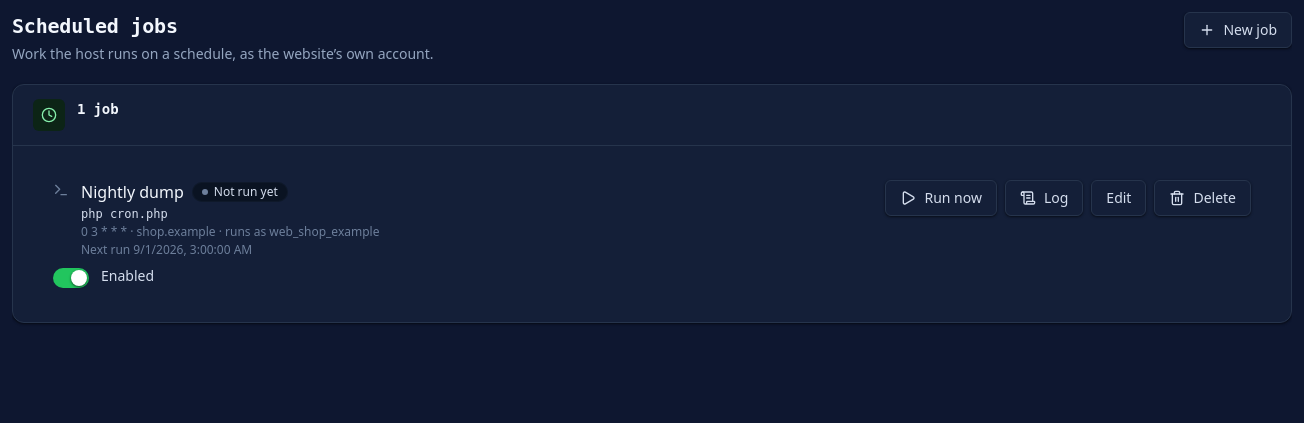
CronPage › runs a job and shows what it printed
Click the button "Run now". click: (941, 198)
box: [885,180,997,216]
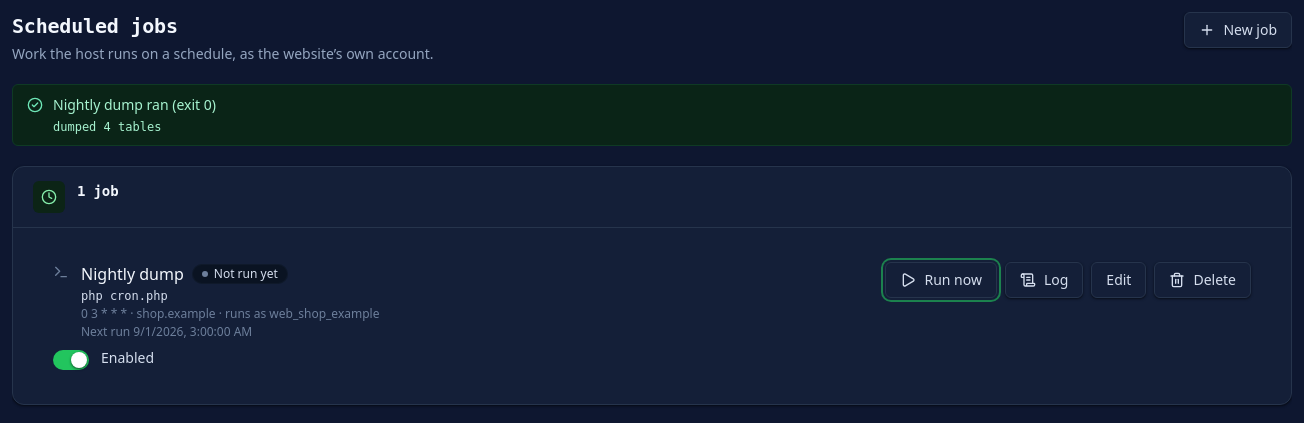
Check: the text "dumped 4 tables" is shown, box [53,120,161,134]
